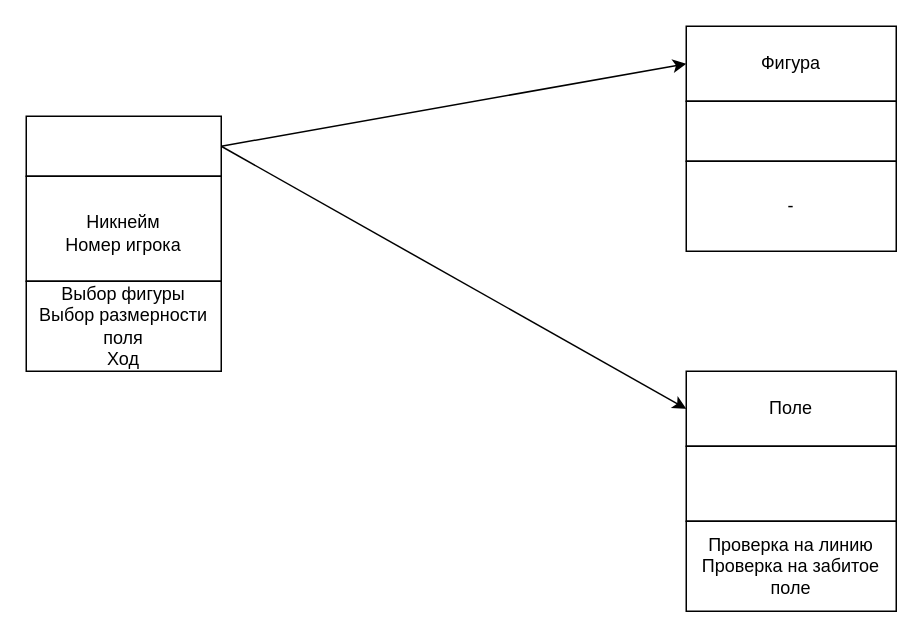
This 923x638 diagram has some shape labels left out. Each missing label, with the centre of its shape:
"Игрок" belongs at pixel 123 145.
"Позиция Внешность фигуры" belongs at pixel 790 130.
"Раземерность" belongs at pixel 790 483.
